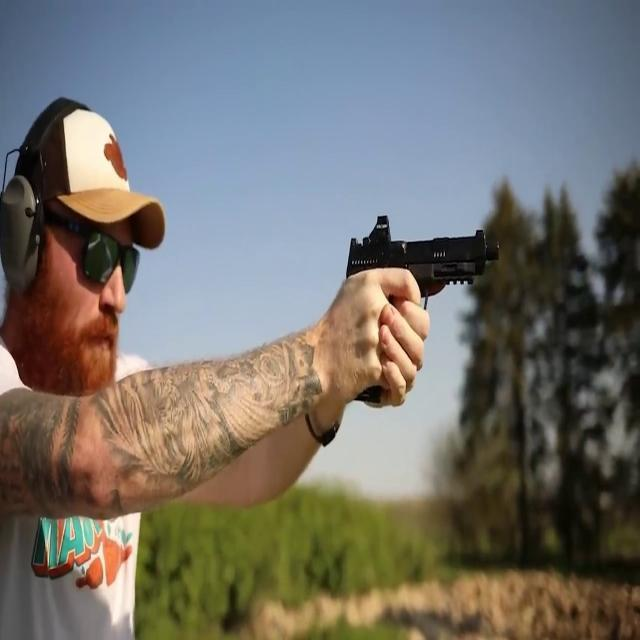Handgun: (332, 210, 504, 412)
